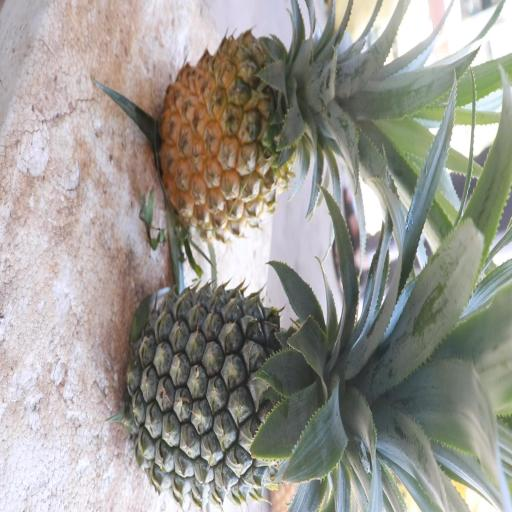Pineapple - v8 v1: (156, 22, 426, 241)
